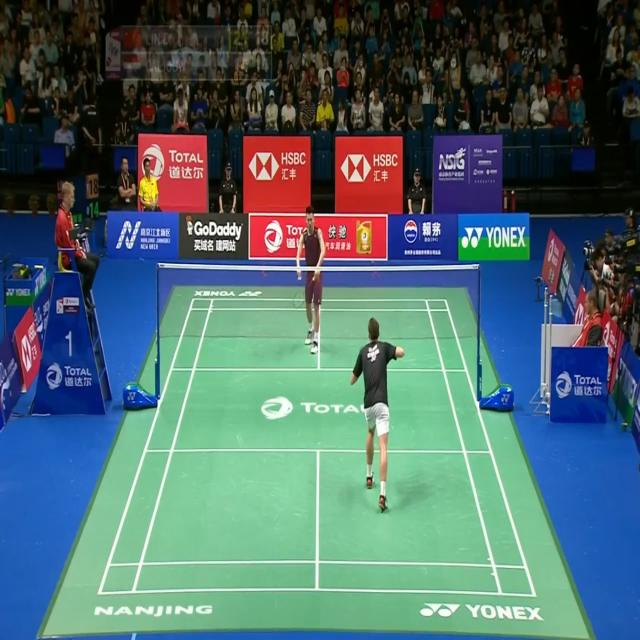Player1: (344, 305, 416, 526)
Player2: (283, 197, 333, 359)
